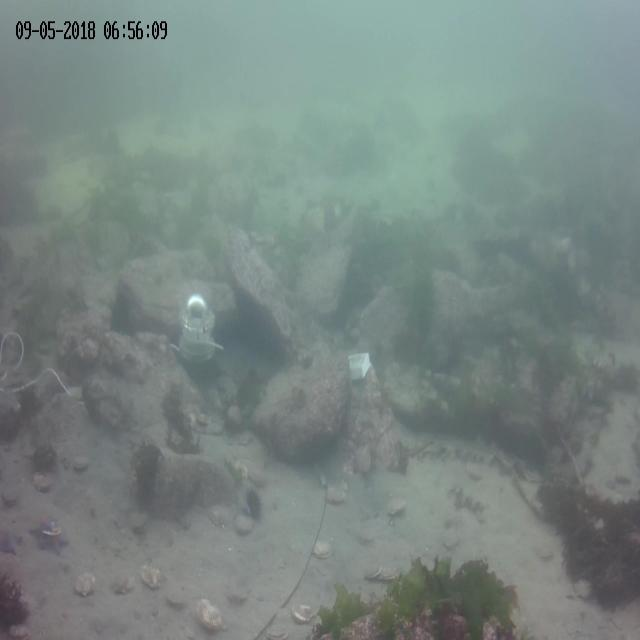scallop: (194, 597, 223, 631), (324, 478, 349, 508), (292, 600, 318, 624), (75, 568, 95, 599), (231, 453, 251, 482), (208, 501, 230, 527), (386, 494, 407, 521), (2, 482, 22, 508), (114, 569, 134, 595), (142, 562, 161, 589), (165, 586, 188, 608), (31, 470, 54, 491), (442, 525, 460, 551), (235, 513, 255, 536), (266, 621, 289, 640), (363, 559, 381, 583), (313, 540, 332, 562), (250, 466, 268, 489), (132, 510, 148, 534), (382, 561, 398, 584), (70, 456, 90, 472)
starfish: (29, 511, 56, 538), (0, 524, 22, 556), (43, 530, 69, 556)
